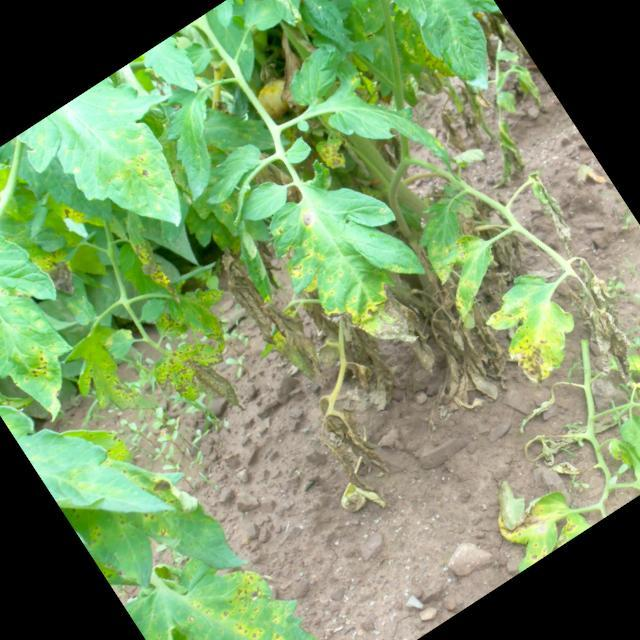Tomato Septoria spot leaf: (14, 52, 240, 283), (246, 152, 462, 384), (136, 505, 364, 640), (0, 209, 125, 445), (313, 53, 467, 224), (361, 0, 533, 109), (472, 260, 596, 392), (469, 449, 594, 573), (140, 82, 252, 202), (52, 318, 160, 441), (143, 325, 254, 441), (160, 266, 253, 368), (423, 224, 516, 320), (110, 205, 190, 308), (400, 193, 486, 285), (188, 134, 274, 210), (137, 32, 211, 110), (287, 0, 360, 59), (228, 170, 295, 231), (612, 408, 640, 473)
Tomato healthy leaf: (279, 132, 315, 167)
